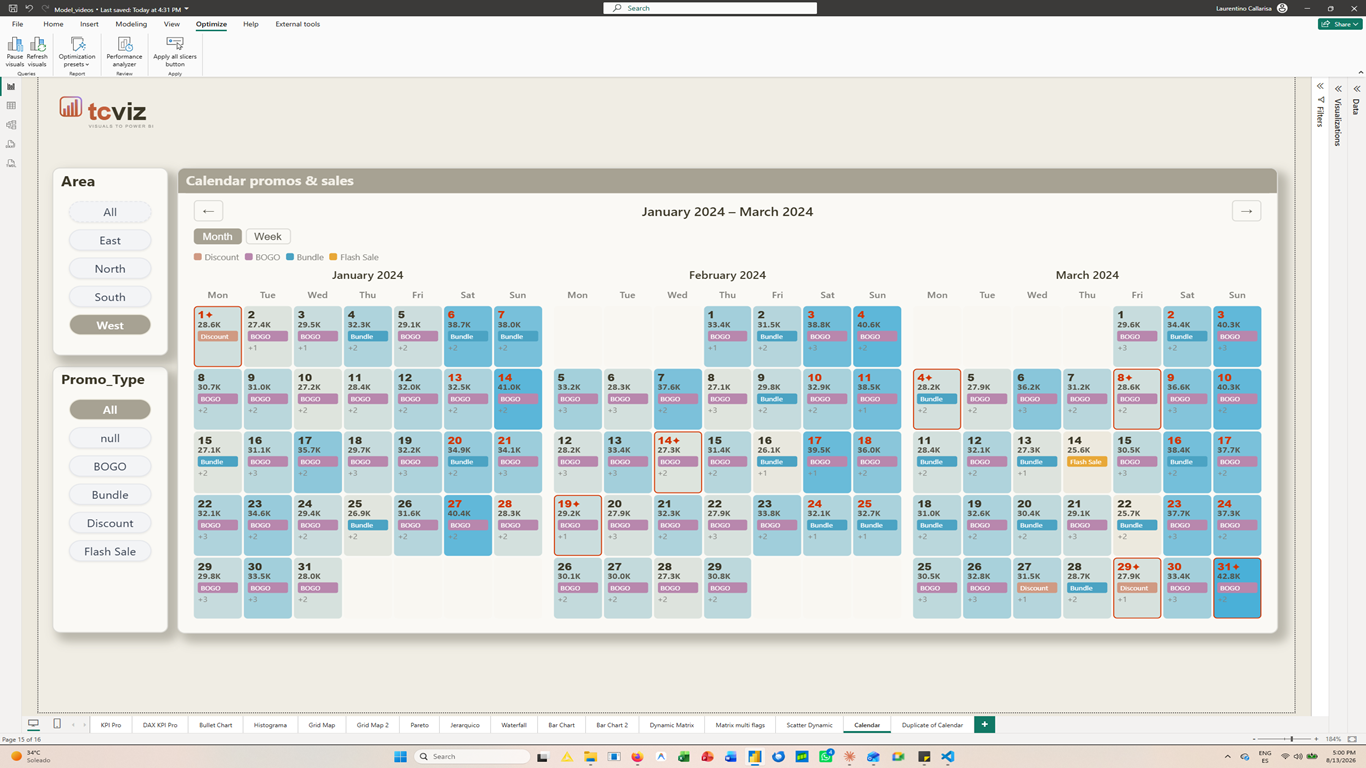

Layout of this report page (visuals, bound fields, positions):
{"tool":"powerbi","page":{"name":"Duplicate of Calendar","canvas":[1280,720],"ordinal":0},"visuals":[{"type":"image","box":[13.9,5.4,118.4,67.7],"z":0},{"type":"chipSlicerFree","fields":{"category":["sample_sales.Promo_Type"]},"box":[13.9,328.4,118.7,377.9],"z":1000},{"type":"chipSlicerFree","fields":{"category":["sample_sales.Area"]},"box":[14.1,102.6,118.4,212.6],"z":2000},{"type":"calendarTCViz022303184F264C8B9ACE6A13E838FFEB_test","title":"Calendar promos & sales","fields":{"date":["sample_sales.Date"],"holidayName":["sample_sales.Holiday_Name"],"eventName":["sample_sales.Promo_Type"],"eventCategory":["sample_sales.Promo_Type"],"mainMeasure":["Sum(sample_sales.Sales_Value)"],"secondaryMeasures":["Sum(sample_sales.Units)","Avg(sample_sales.Units)"]},"box":[148.2,102.4,1116.1,603.8],"z":3000}]}

Visuals, with their boxes on the page's 1280x720 design canvas (x1, y1, x2, y2). These are canvas units, not pixel positions in the 1366x768 screenshot, which may show the page scaled, cropped or inside an application window:
image: 14:5:132:73
chipSlicerFree - sample_sales.Promo_Type: 14:328:133:706
chipSlicerFree - sample_sales.Area: 14:103:132:315
"Calendar promos & sales" calendarTCViz022303184F264C8B9ACE6A13E838FFEB_test: 148:102:1264:706
